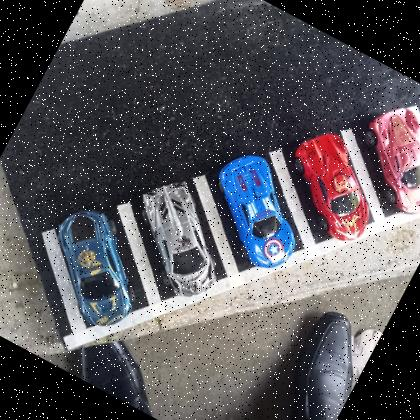Car: (24, 198, 164, 337), (110, 168, 248, 305), (189, 144, 324, 278), (269, 123, 398, 250), (340, 95, 420, 222)
